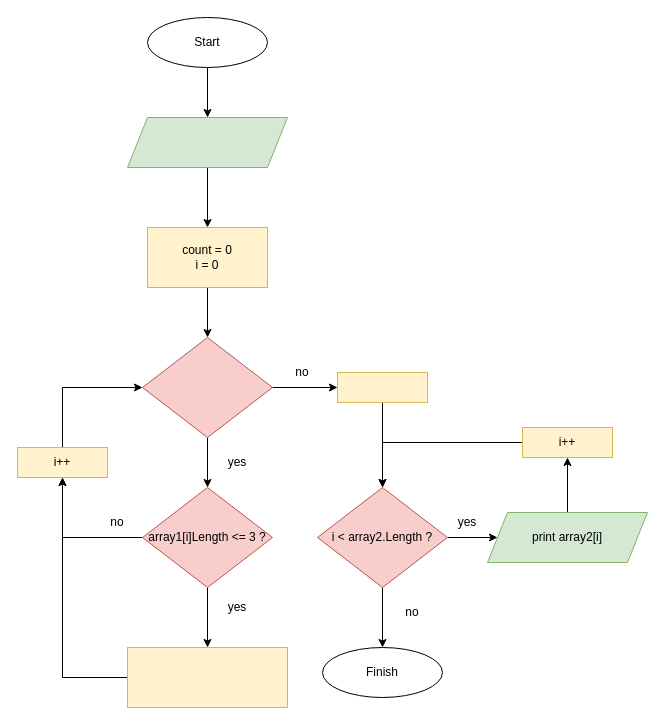
This 665x725 diagram has some shape labels left out. The shapes that lost their labels are listed below. From the top down, each one's box as (x1, y1, x2, y2) in pixels, then its label:
(126, 116, 288, 168): array1 array2 = array1.Length
(142, 336, 272, 438): i < array1.Length ?
(336, 372, 428, 402): i = 0
(126, 646, 288, 708): array2[count] = array1[i] count++
